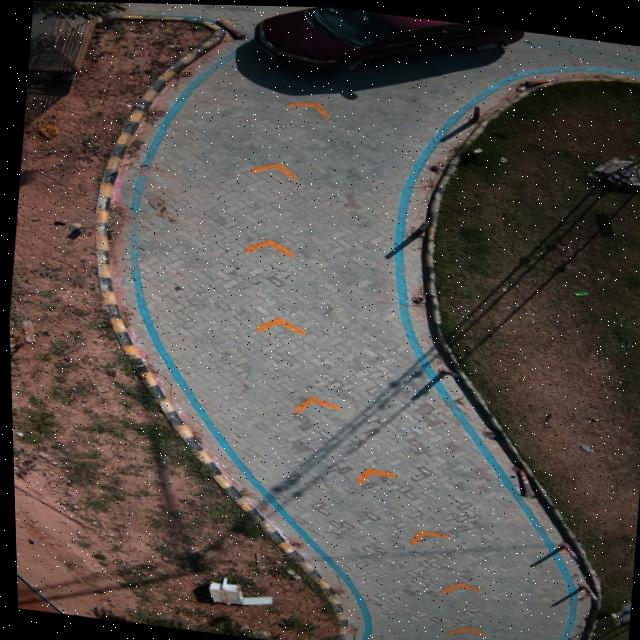car: (253, 5, 522, 68)
